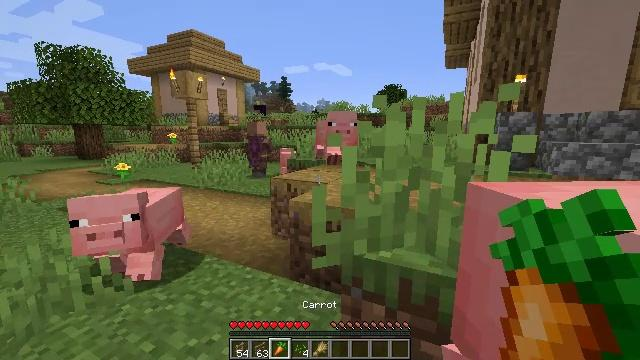pig: (67, 187, 190, 280), (317, 112, 357, 162), (280, 148, 298, 175)
